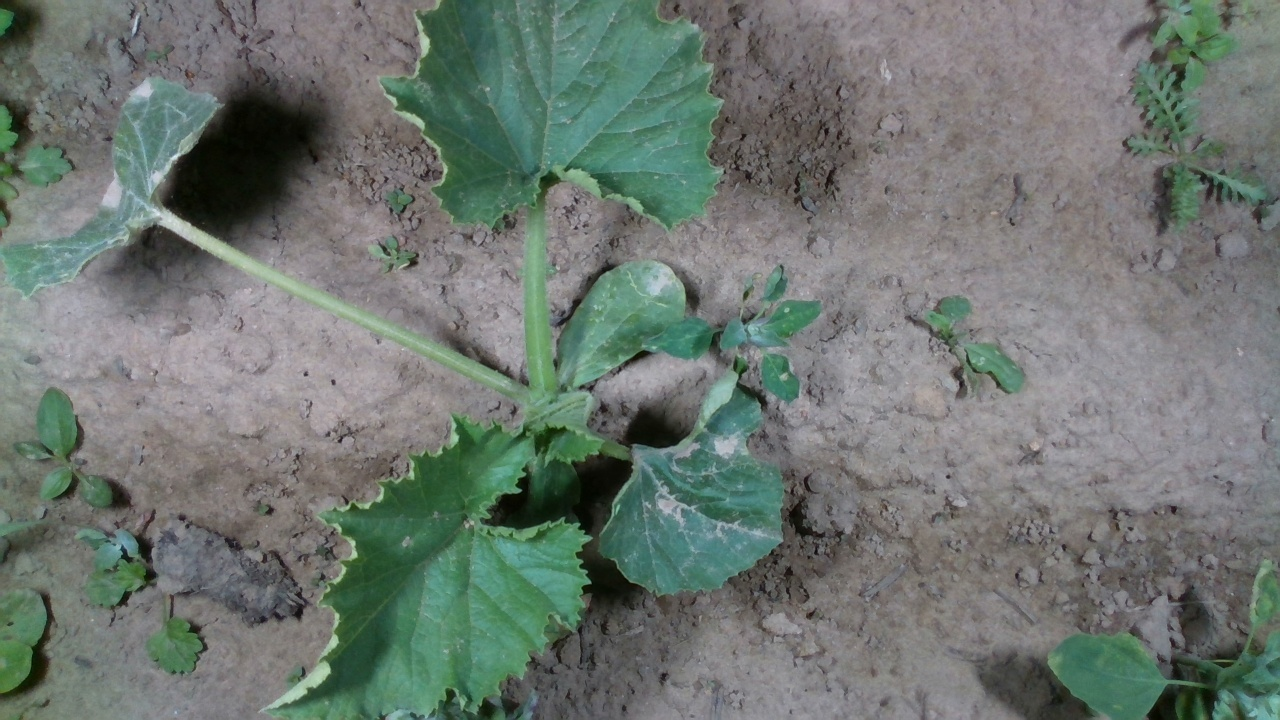weed: (915, 294, 1025, 399), (366, 234, 414, 279), (384, 188, 416, 216)
